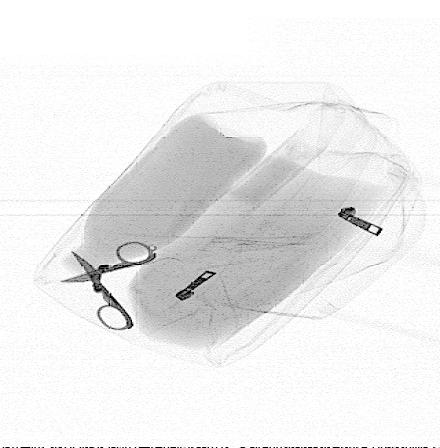Scissors: (57, 240, 158, 333)
